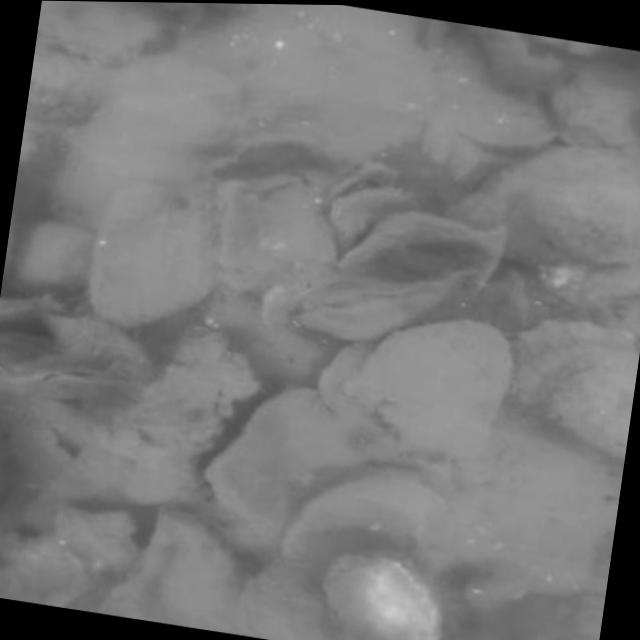Oyster-Closed: (269, 272, 484, 346)
Oyster-Indeterminate: (442, 142, 640, 261), (353, 319, 519, 448), (507, 317, 640, 465), (521, 161, 640, 261), (25, 45, 116, 127), (247, 558, 329, 640), (16, 218, 96, 288)
Oyster-Open: (323, 163, 426, 253)
